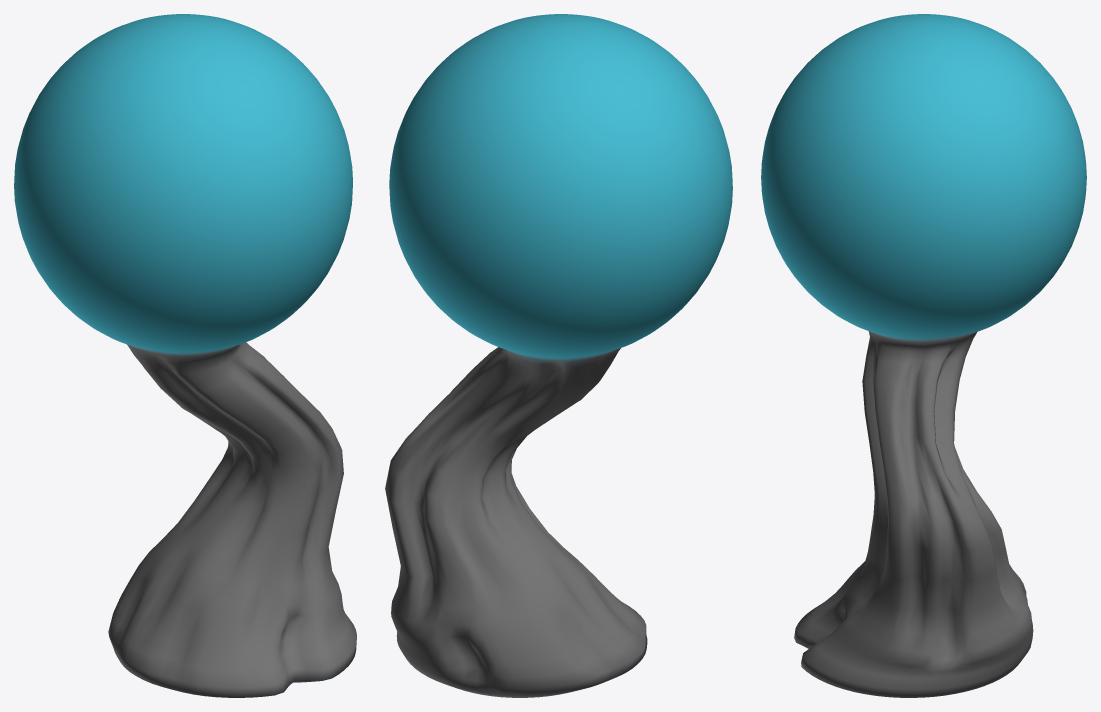
Rendered from MZ4250 - Will-o-Wisp Blue.glb.
3 views of the same model, side by side, from view 1: azimuth 30°, elevation 25°; view 2: azimuth 150°, elevation 25°; view 3: azimuth 270°, elevation 25° (orthographic). The views are drawn at different scales.
Visible parts, largest first — view 1: default; view 2: default; view 3: default.
Boxes of the visible parts, left/top/right/bottom form: default: left=14, top=14, right=356, bottom=697; default: left=385, top=14, right=732, bottom=697; default: left=761, top=14, right=1086, bottom=697.
Size of the model in its own units: 0.3516 by 0.7197 by 0.342.
Materials: 1 (1 with a texture image).
